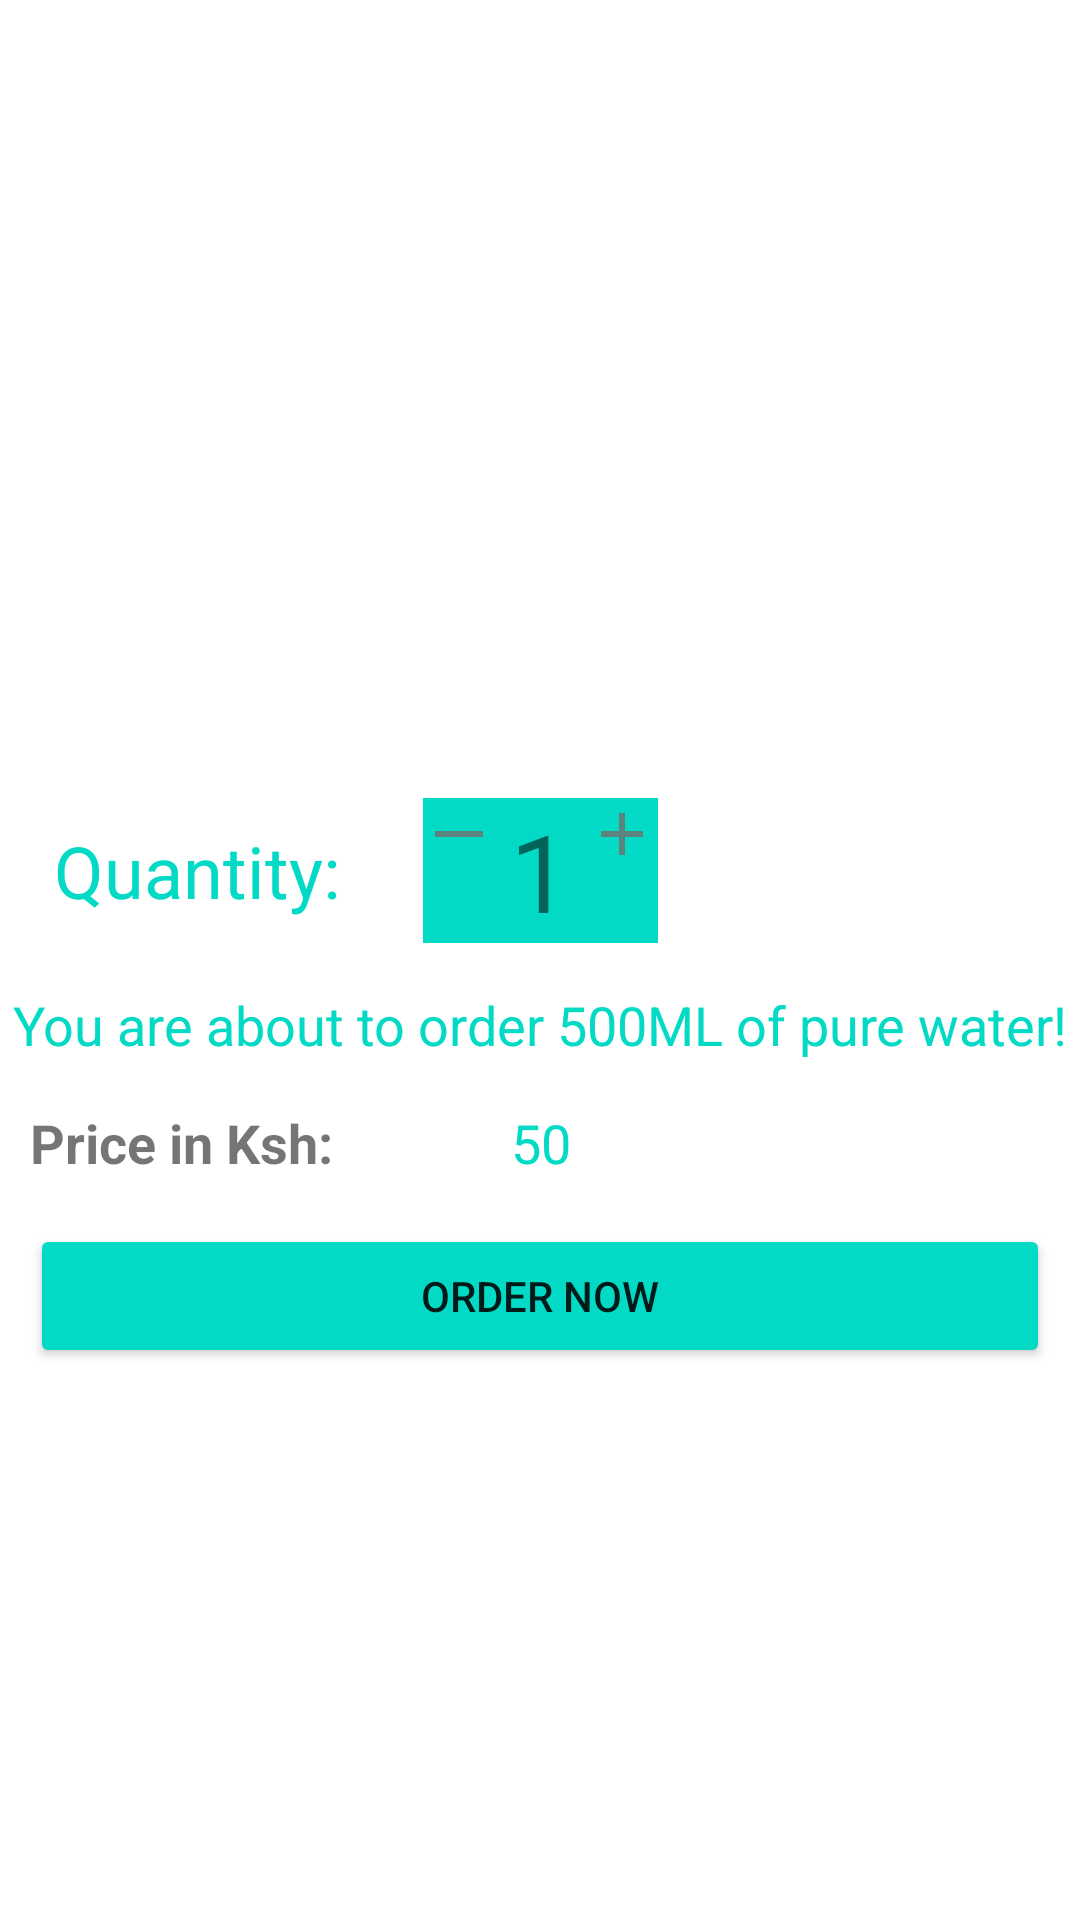

Where to tap for icons on this 1080 x 1920 app screen, as (x,y):
add: (622,834)
